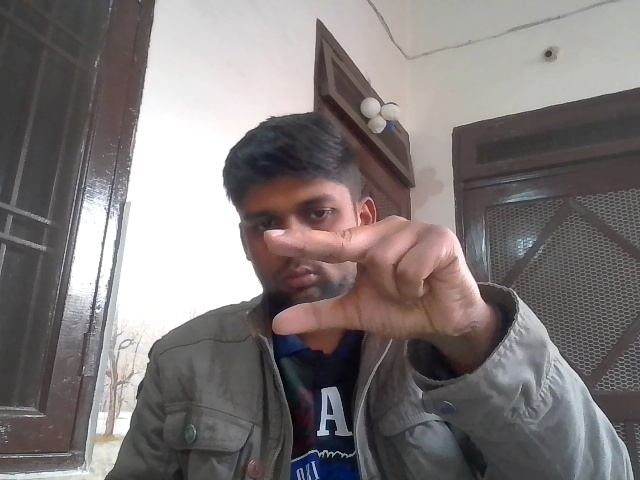No: (236, 201, 506, 374)
